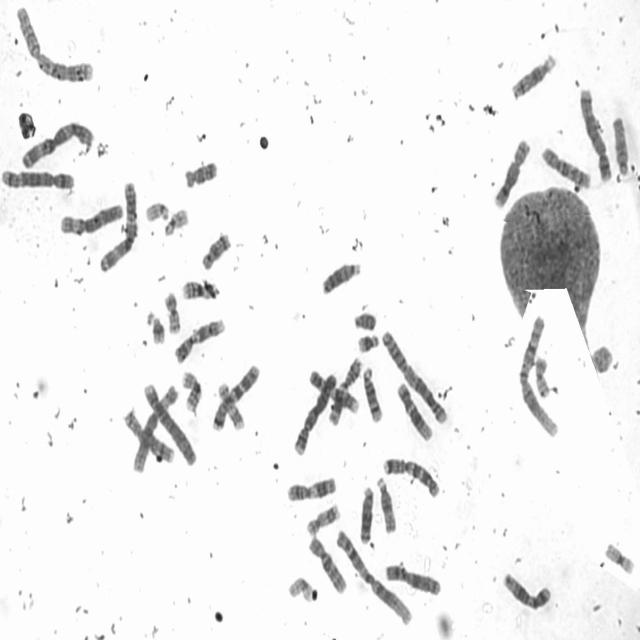A1: (334, 526, 413, 626), (516, 312, 560, 438)
A2: (379, 327, 449, 426), (14, 3, 94, 84)
A3: (19, 117, 95, 170), (98, 180, 140, 275)
B4: (142, 380, 198, 468), (292, 368, 338, 457)
B5: (578, 84, 612, 184), (0, 164, 77, 192)
C10: (306, 533, 348, 595), (540, 142, 592, 192)
C11: (326, 353, 364, 428), (286, 474, 336, 502)
C12: (395, 378, 434, 442), (502, 568, 552, 612)
C6: (130, 381, 180, 474), (57, 200, 124, 237)
C7: (210, 360, 261, 433), (381, 454, 441, 499)
C8: (121, 406, 176, 464), (492, 135, 532, 211)
C9: (307, 366, 360, 416), (172, 315, 226, 364)
D13: (320, 259, 362, 295), (357, 483, 375, 544)
D14: (509, 50, 558, 103), (360, 364, 384, 424)
D15: (375, 473, 397, 535), (610, 113, 630, 177)
E16: (179, 276, 220, 302), (179, 368, 203, 412)
E17: (216, 379, 244, 431), (304, 500, 341, 538)
E18: (199, 228, 233, 272), (181, 157, 220, 189)
F19: (604, 540, 636, 575), (286, 573, 315, 604)
F20: (162, 289, 182, 336), (533, 353, 551, 400)
G21: (146, 308, 166, 347), (356, 331, 380, 354)
G22: (162, 205, 189, 237), (144, 198, 170, 223)
X: (383, 560, 442, 598)
Y: (352, 309, 377, 331)
